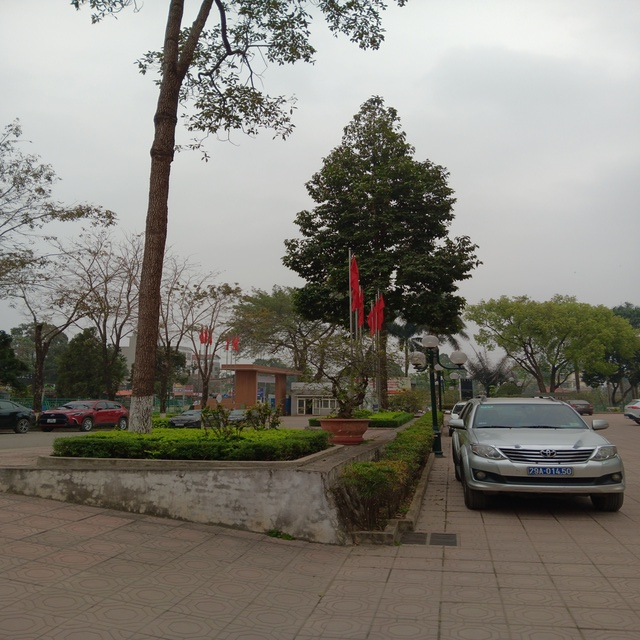caycanh: (303, 336, 387, 459)
